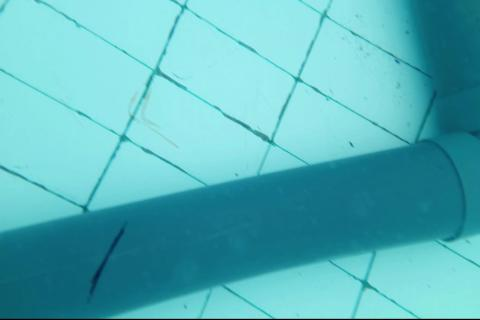keretakan: (86, 221, 129, 305)
